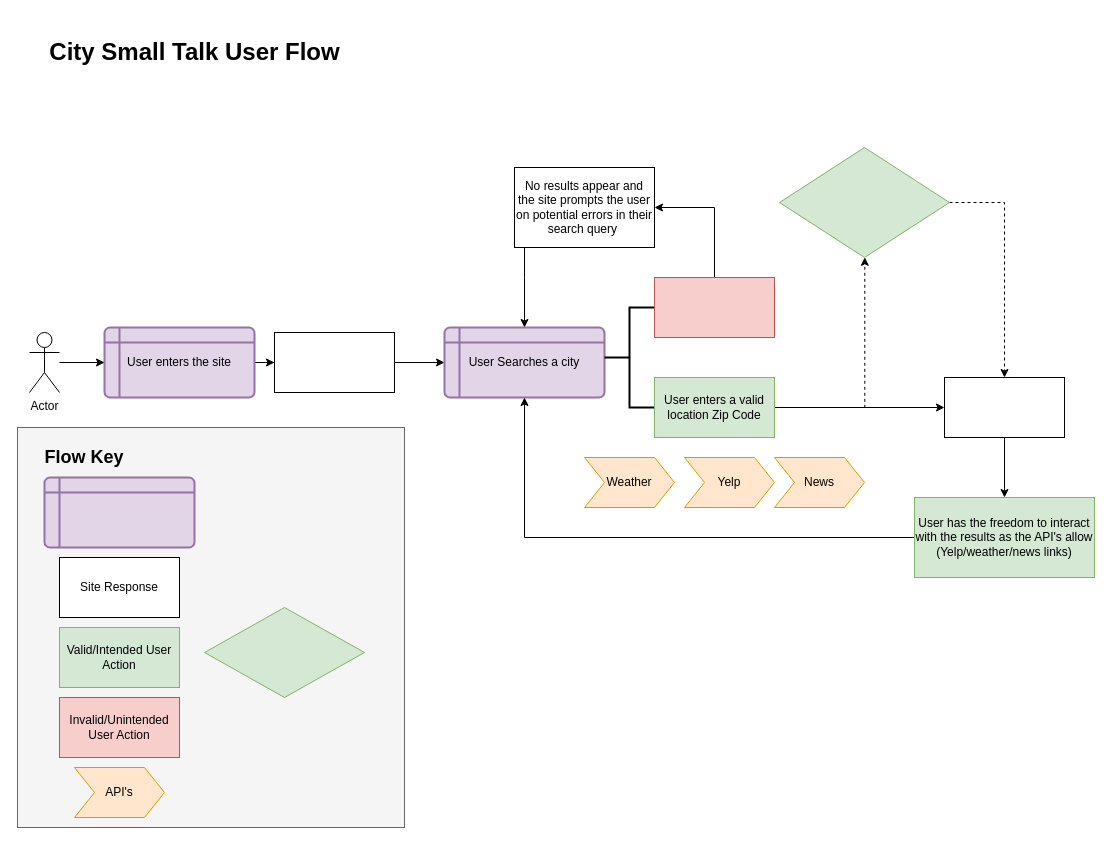
The diagram is 1112 pixels wide and 845 high, and some of its shapes have lost their labels. The centre of each missing label's shape, as x and y in pixels:
"Optional Valid User Action" goes at [284,652].
"Optional Valid User Action See other IMG's" goes at [864,202].
"The site gives instructions on how to search for a city's small talk" goes at [334,362].
"User enters an invalid/unparsable city." goes at [714,307].
"User gets the City's Small Talk results listed outwardly." goes at [1004,407].
"User View" goes at [119,512].
